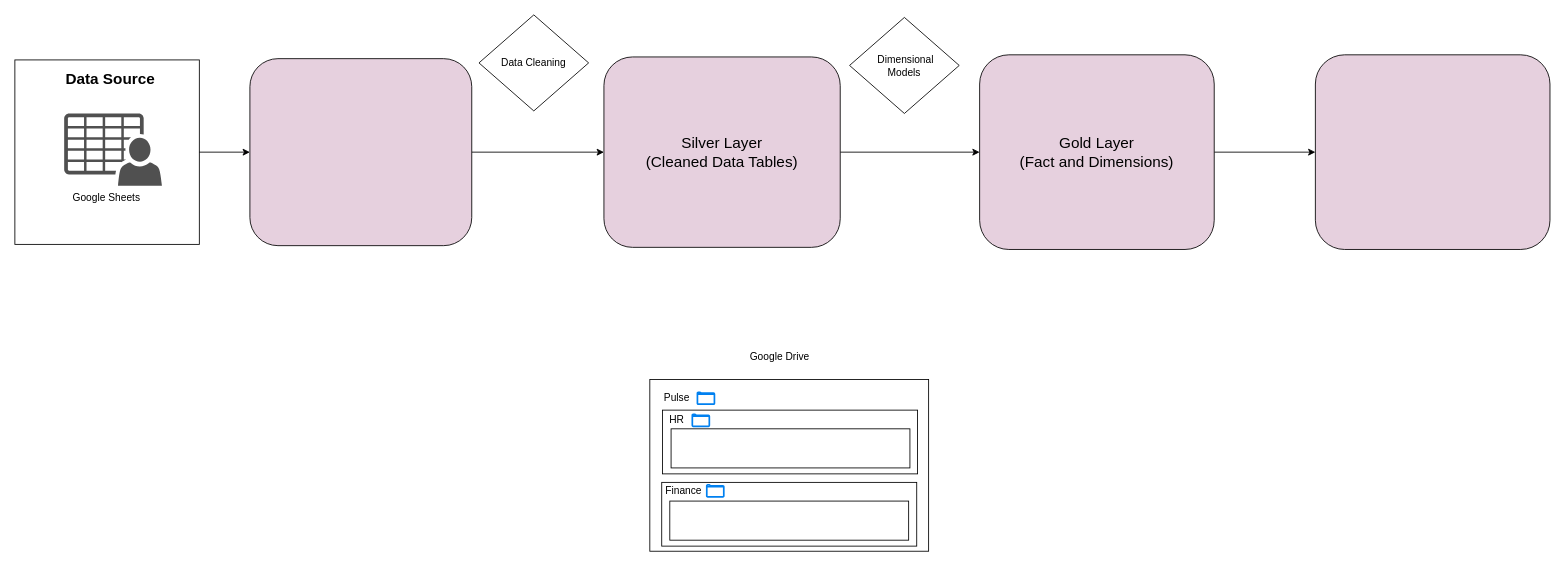
Image size: 1565x566. Some labels were removed from this diagram. Each missing label, with the centre of its shape:
"Bronze layer (External Tables)" goes at pixel 360 152.
"KPIs (Attrition Functions)" goes at pixel 1432 151.
